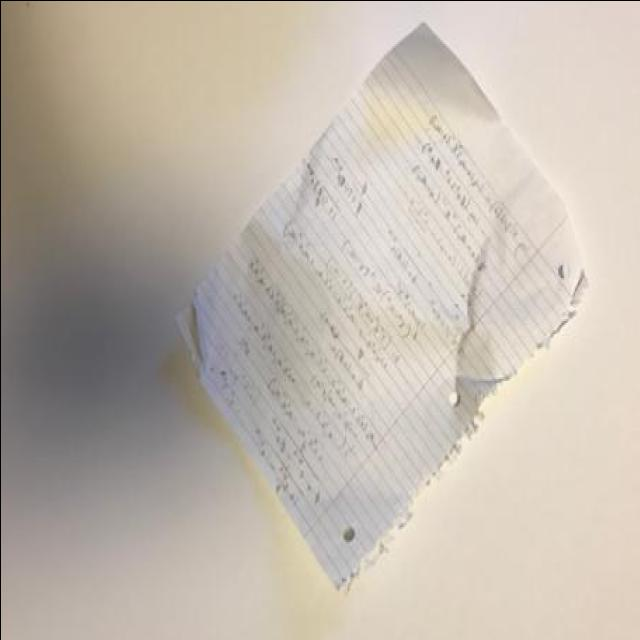kertas: (171, 17, 582, 602)
